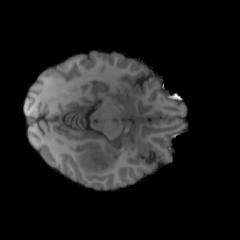glioma: (75, 144, 116, 174)
